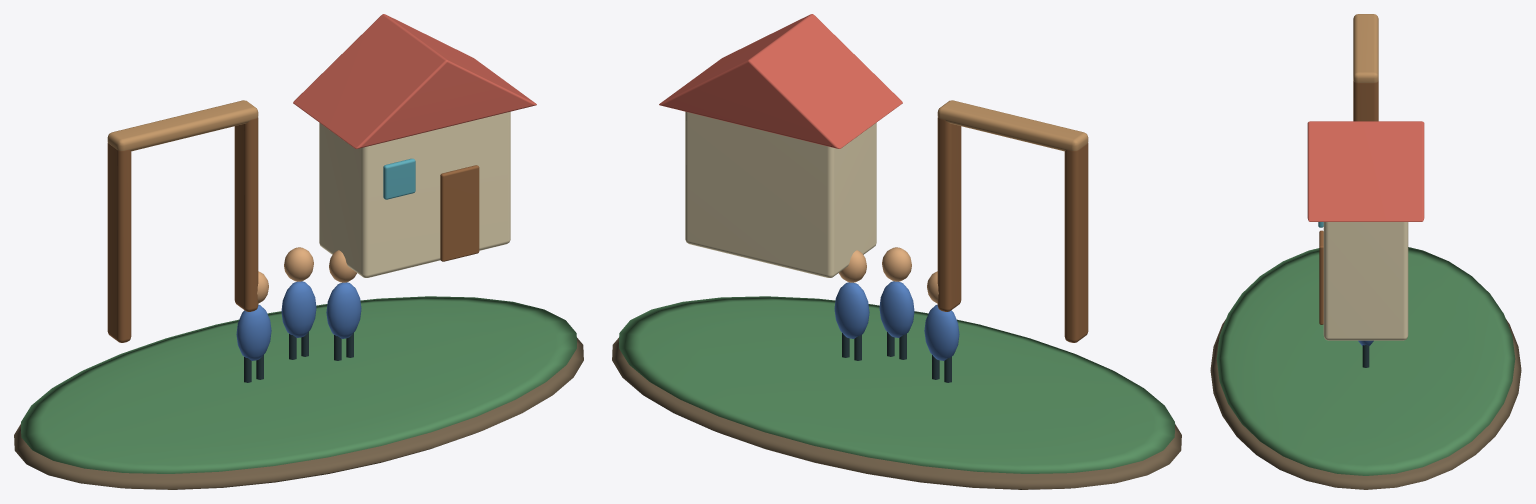
Rendered from complete-first-everyone-big-home.glb.
3 renders of one model, left to right at view 1: azimuth 30°, elevation 25°; view 2: azimuth 150°, elevation 25°; view 3: azimuth 270°, elevation 25°, orthographic. The views are drawn at different scales.
Parts seen in each view (by area): view 1: complete-first-everyone-big-home_surface_01, complete-first-everyone-big-home_surface_04, complete-first-everyone-big-home_surface_05, complete-first-everyone-big-home_surface_02, complete-first-everyone-big-home_surface_00, complete-first-everyone-big-home_surface_08, complete-first-everyone-big-home_surface_03, complete-first-everyone-big-home_surface_07, complete-first-everyone-big-home_surface_06, complete-first-everyone-big-home_surface_09; view 2: complete-first-everyone-big-home_surface_01, complete-first-everyone-big-home_surface_04, complete-first-everyone-big-home_surface_05, complete-first-everyone-big-home_surface_00, complete-first-everyone-big-home_surface_02, complete-first-everyone-big-home_surface_08, complete-first-everyone-big-home_surface_03, complete-first-everyone-big-home_surface_07, complete-first-everyone-big-home_surface_09; view 3: complete-first-everyone-big-home_surface_01, complete-first-everyone-big-home_surface_05, complete-first-everyone-big-home_surface_04, complete-first-everyone-big-home_surface_00, complete-first-everyone-big-home_surface_03, complete-first-everyone-big-home_surface_02.
Boxes of the visible parts, x1=… form: complete-first-everyone-big-home_surface_01: x1=21, y1=296, x2=576, y2=473; complete-first-everyone-big-home_surface_04: x1=319, y1=111, x2=510, y2=277; complete-first-everyone-big-home_surface_05: x1=293, y1=14, x2=536, y2=148; complete-first-everyone-big-home_surface_02: x1=107, y1=117, x2=479, y2=342; complete-first-everyone-big-home_surface_00: x1=14, y1=338, x2=583, y2=489; complete-first-everyone-big-home_surface_08: x1=236, y1=281, x2=361, y2=360; complete-first-everyone-big-home_surface_03: x1=107, y1=100, x2=258, y2=151; complete-first-everyone-big-home_surface_07: x1=257, y1=247, x2=356, y2=303; complete-first-everyone-big-home_surface_06: x1=383, y1=158, x2=415, y2=199; complete-first-everyone-big-home_surface_09: x1=244, y1=332, x2=353, y2=382; complete-first-everyone-big-home_surface_01: x1=619, y1=296, x2=1174, y2=473; complete-first-everyone-big-home_surface_04: x1=685, y1=111, x2=876, y2=277; complete-first-everyone-big-home_surface_05: x1=659, y1=14, x2=902, y2=148; complete-first-everyone-big-home_surface_00: x1=612, y1=338, x2=1181, y2=489; complete-first-everyone-big-home_surface_02: x1=937, y1=117, x2=1088, y2=342; complete-first-everyone-big-home_surface_08: x1=834, y1=281, x2=959, y2=360; complete-first-everyone-big-home_surface_03: x1=937, y1=100, x2=1088, y2=151; complete-first-everyone-big-home_surface_07: x1=839, y1=247, x2=938, y2=303; complete-first-everyone-big-home_surface_09: x1=842, y1=332, x2=951, y2=382; complete-first-everyone-big-home_surface_01: x1=1216, y1=247, x2=1515, y2=475; complete-first-everyone-big-home_surface_05: x1=1307, y1=121, x2=1424, y2=221; complete-first-everyone-big-home_surface_04: x1=1323, y1=222, x2=1408, y2=340; complete-first-everyone-big-home_surface_00: x1=1210, y1=319, x2=1521, y2=489; complete-first-everyone-big-home_surface_03: x1=1353, y1=14, x2=1378, y2=82; complete-first-everyone-big-home_surface_02: x1=1319, y1=81, x2=1378, y2=324.
Bounding box in the file's own units: 4.56 × 2.78 × 2.5.
